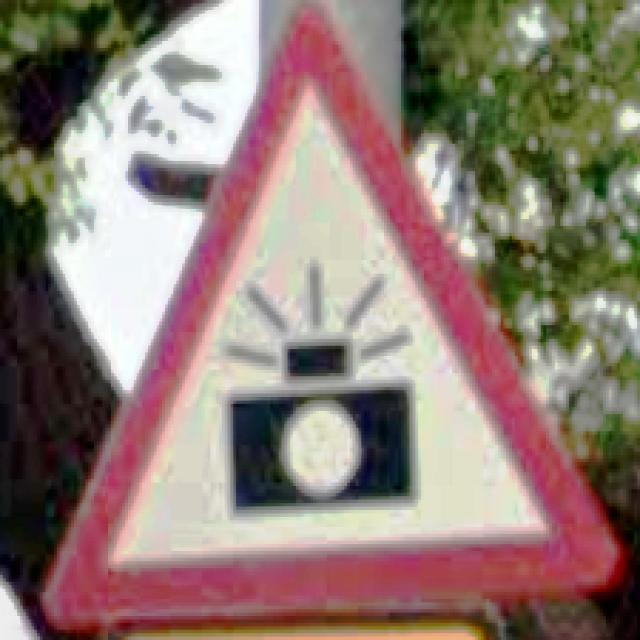speedcamera: (37, 0, 623, 630)
